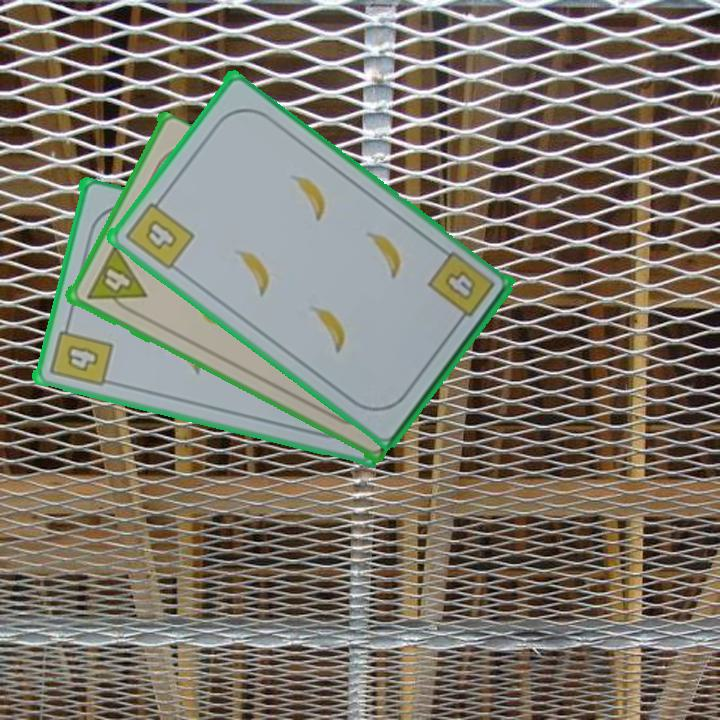4b: (120, 191, 196, 273), (423, 247, 498, 329), (45, 316, 115, 390)
4p: (82, 243, 148, 318)
